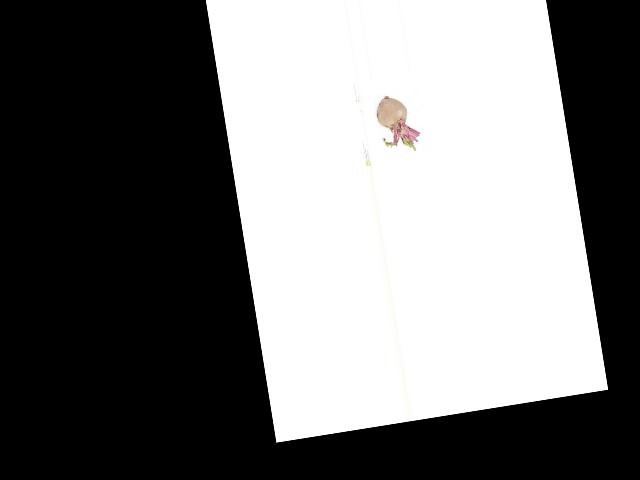beet: (374, 91, 422, 155)
